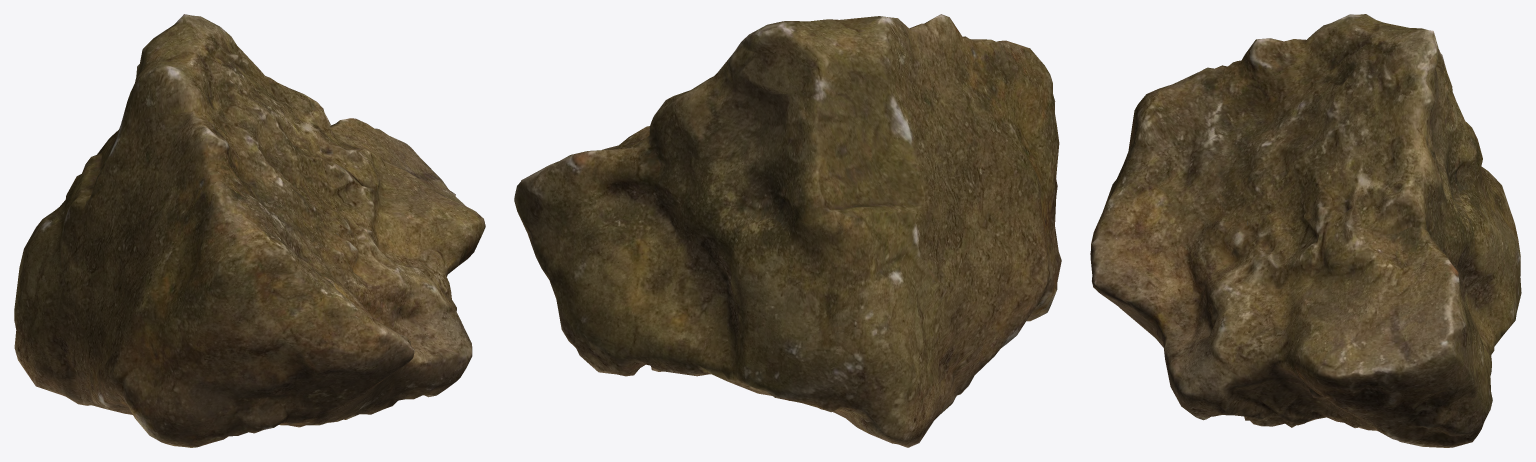
Rendered from rock_moss_01_r04.glb.
3 renders of one model, left to right at view 1: azimuth 30°, elevation 25°; view 2: azimuth 150°, elevation 25°; view 3: azimuth 270°, elevation 25°, orthographic. The views are drawn at different scales.
Visible parts, largest first — view 1: rock_moss_01_r04_LOD0; view 2: rock_moss_01_r04_LOD0; view 3: rock_moss_01_r04_LOD0.
Part boxes in pixels (bbox=[...]): rock_moss_01_r04_LOD0: bbox=[14, 14, 485, 447]; rock_moss_01_r04_LOD0: bbox=[514, 14, 1061, 447]; rock_moss_01_r04_LOD0: bbox=[1090, 14, 1521, 447].
Size of what is drawn, in the model's own units: 2.13 by 1.77 by 1.96.
1 material, 1 textured.
